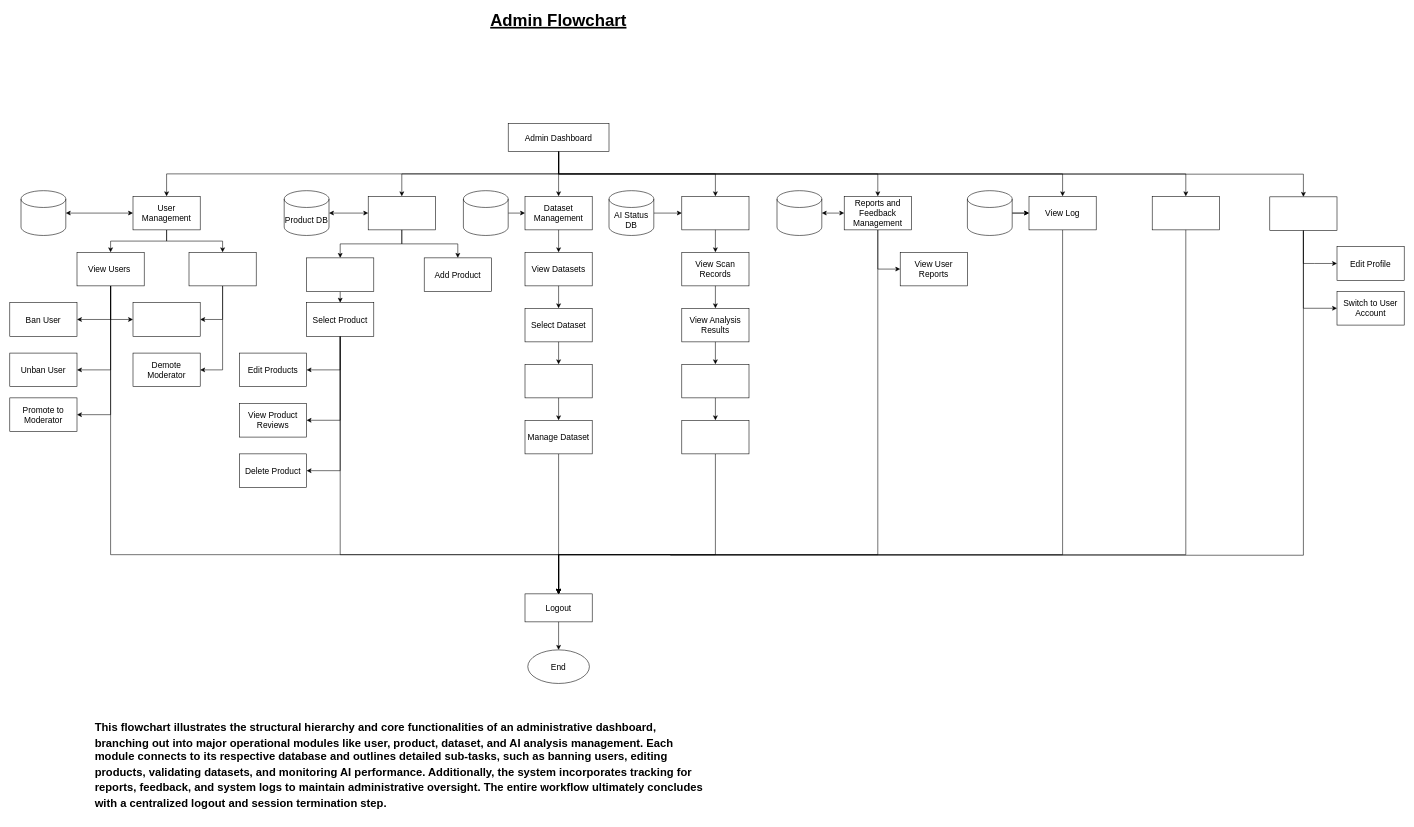
Some shapes in this 1414 by 827 pixel diagram are drawn without their labels. Here are the shapes that lost their labels. From the top down, the box of each, then its label:
(20, 190, 66, 235): User DB
(368, 196, 435, 230): Product Management
(463, 190, 508, 235): Dataset DB
(681, 196, 749, 230): Ai Analysis Management
(776, 190, 822, 235): Report DB
(967, 190, 1012, 235): Log File DB
(1152, 196, 1219, 230): View Notifications
(1269, 196, 1337, 230): Account Setting
(188, 252, 256, 286): View Moderators
(306, 257, 374, 291): View Products
(132, 302, 200, 336): View Details
(524, 364, 592, 398): Validate Dataset
(681, 364, 749, 398): View Detection Errors
(681, 420, 749, 454): Monitor Ai Performance
